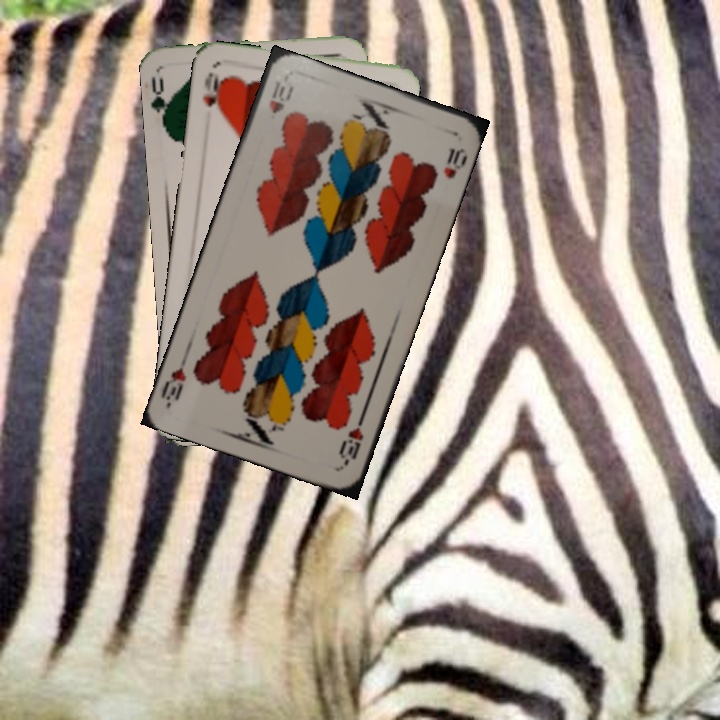GO: (147, 72, 176, 130)
H10: (335, 410, 367, 468), (265, 77, 295, 117)
HO: (199, 68, 226, 116)
